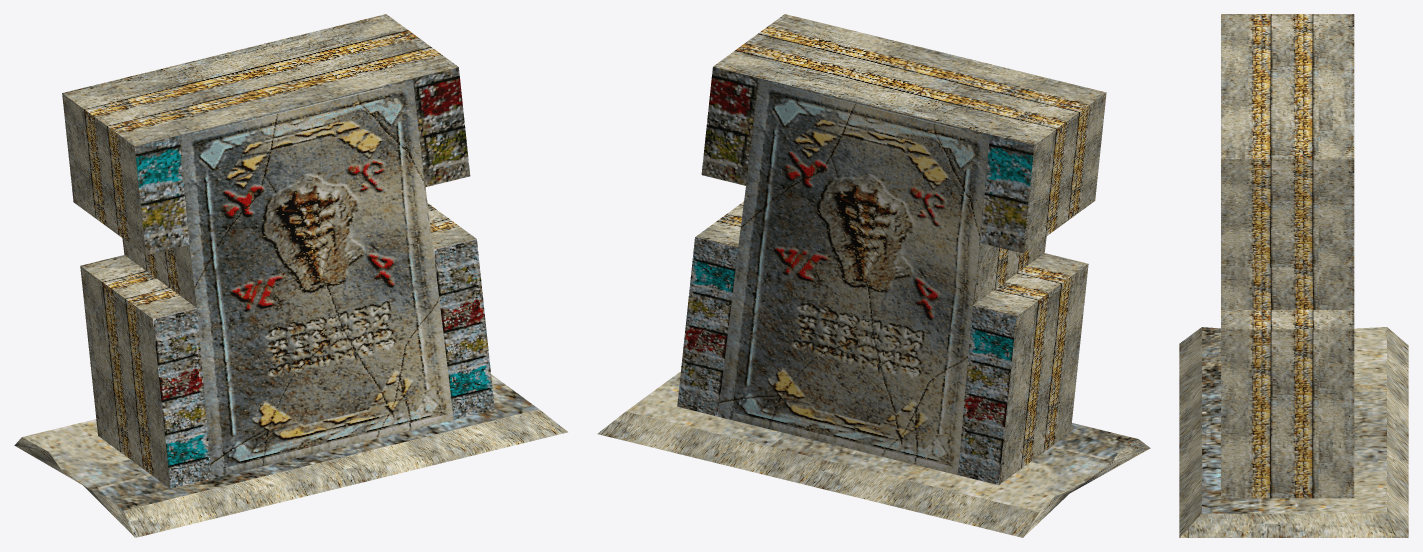
The model's file is Totem_Large_Right.fbx.
3 views of the same model, side by side, from view 1: azimuth 30°, elevation 25°; view 2: azimuth 150°, elevation 25°; view 3: azimuth 270°, elevation 25° (orthographic). The views are drawn at different scales.
Visible parts, largest first — view 1: object_3; view 2: object_3; view 3: object_3.
Boxes of the visible parts, <box> form: object_3: <box>14,14,567,537</box>; object_3: <box>597,14,1150,537</box>; object_3: <box>1179,14,1408,537</box>.
Size of the model in its own units: 522 by 422 by 258.
